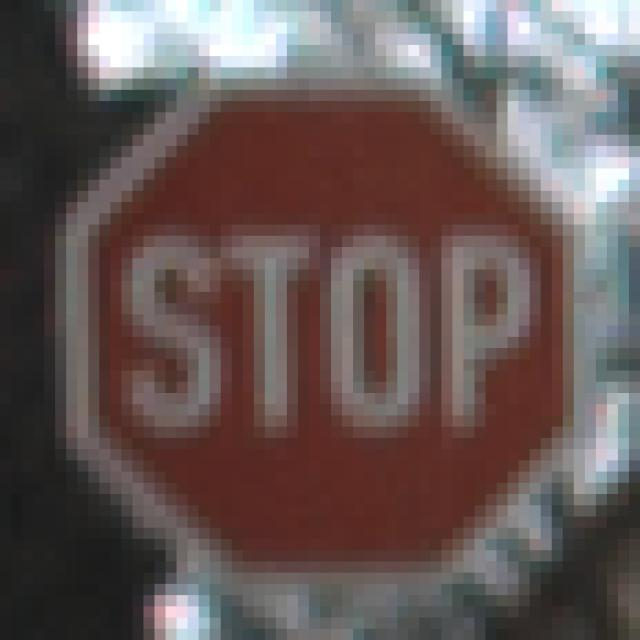STOP: (56, 57, 575, 585)
